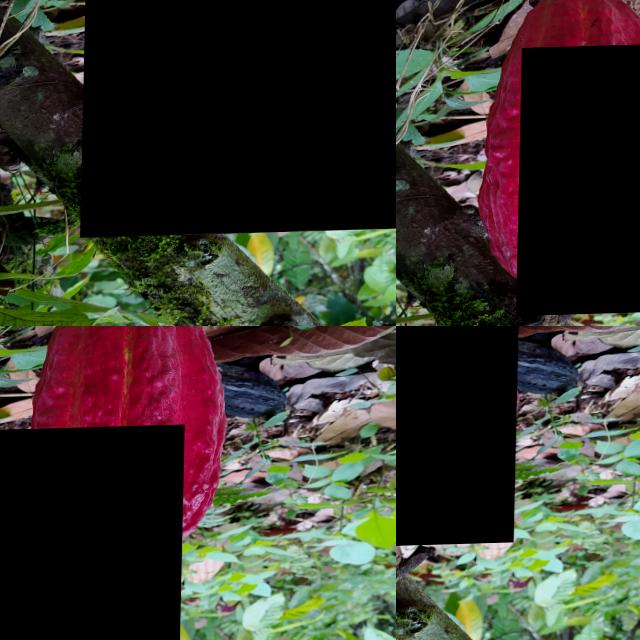Fitoftora: (0, 426, 185, 640)
Monilia: (517, 44, 640, 317)
Sana: (82, 0, 396, 239), (396, 326, 520, 549)
